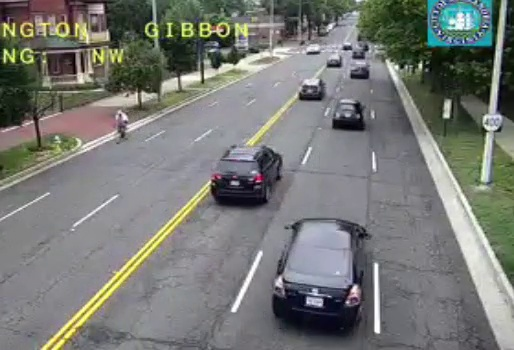car: (272, 219, 362, 325), (211, 146, 282, 198), (332, 99, 362, 123), (299, 79, 323, 99)
